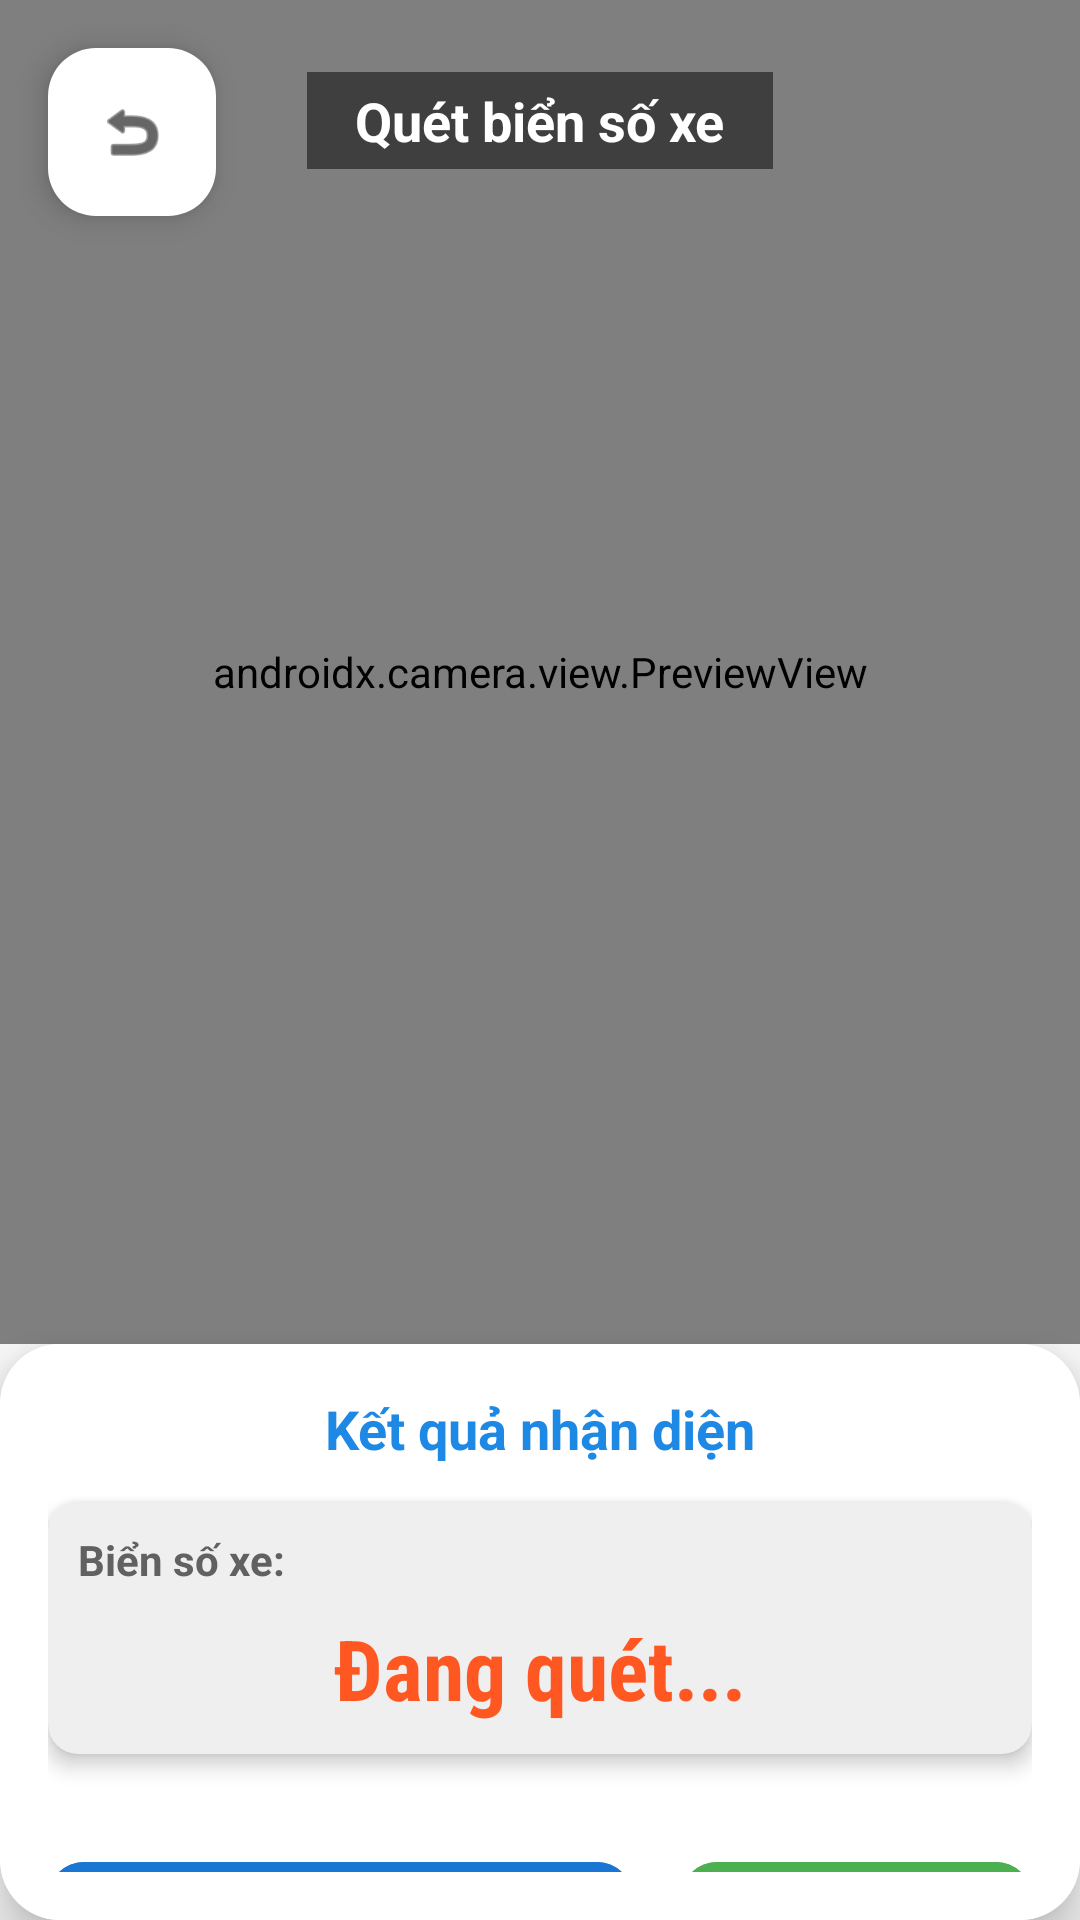

Point at icon controls on the screen. Image size 1080px×1920px, points as (x=x, y=y).
Quay lại: (x=132, y=132)
